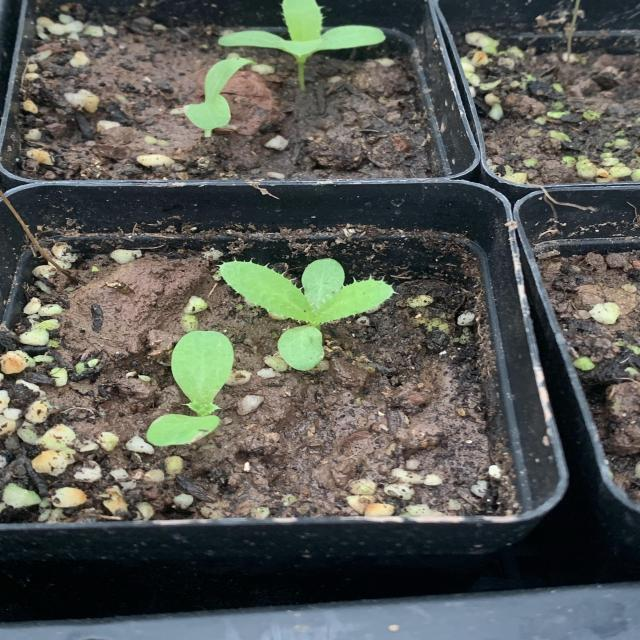field_thistle: (209, 221, 403, 452), (328, 382, 467, 508), (0, 263, 119, 374)
